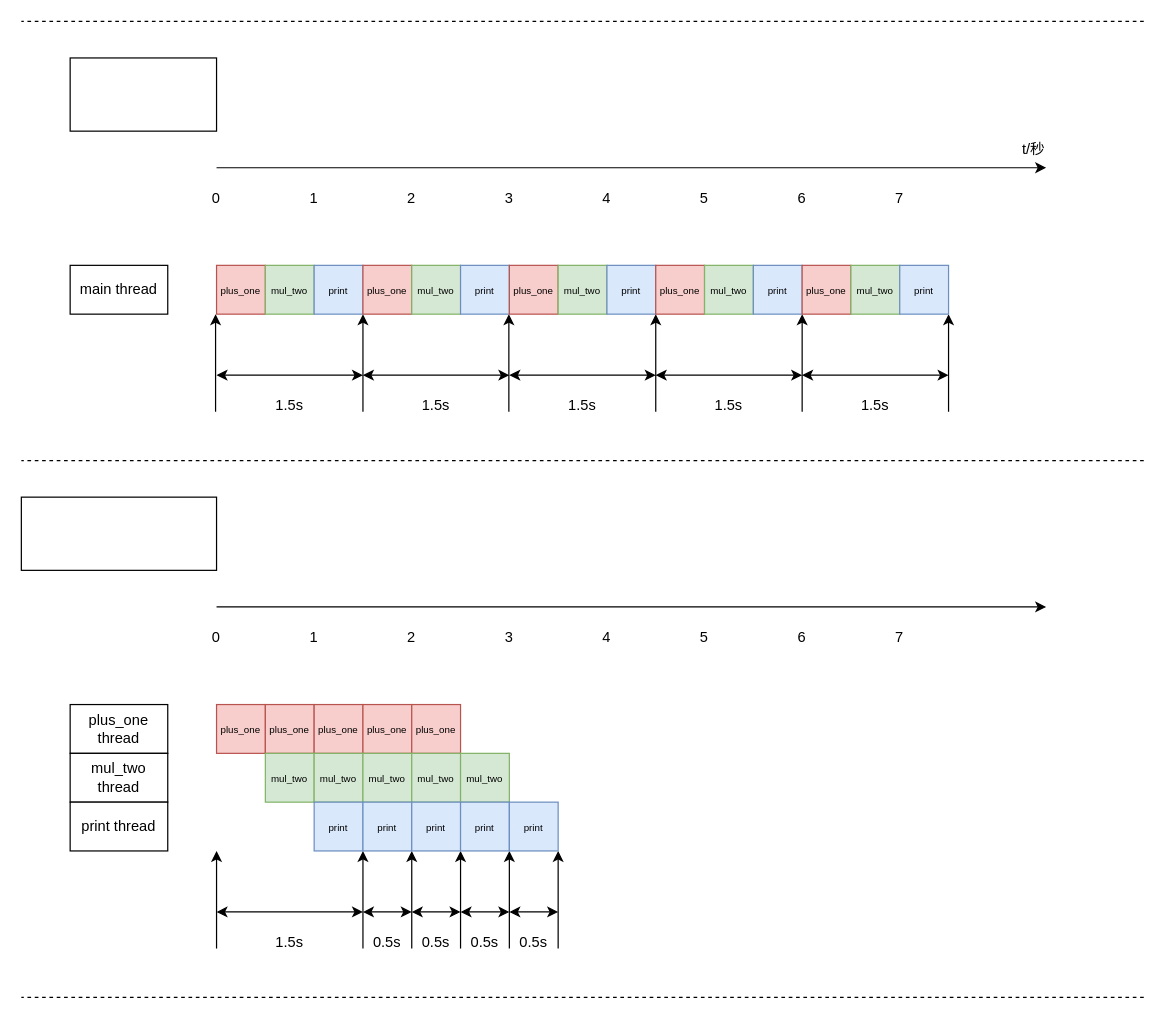
This 1166x1020 diagram has some shape labels left out. Each missing label, with the centre of its shape:
"no_pipeline.cpp" goes at [143,94].
"simple_pipeline_test.cpp" goes at [118,533].
